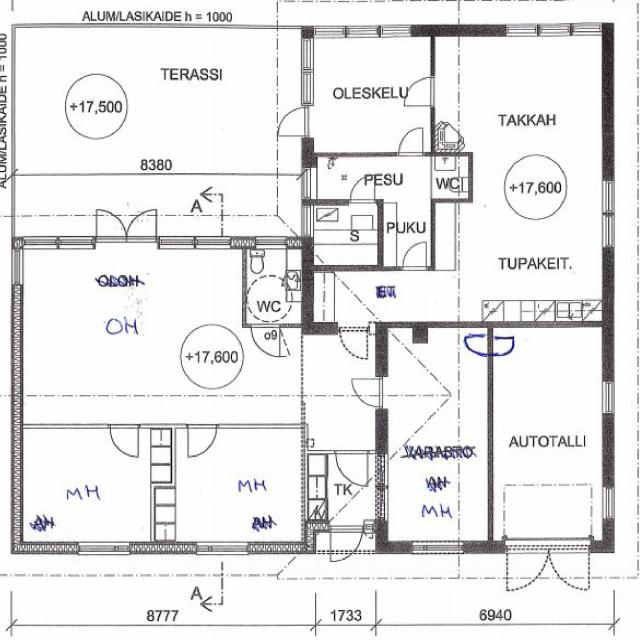door: (330, 526, 363, 565), (336, 450, 368, 486), (96, 206, 126, 242), (126, 206, 156, 242), (187, 424, 216, 457), (350, 378, 383, 407), (251, 324, 280, 356), (110, 424, 138, 457), (277, 108, 308, 136), (404, 78, 434, 106), (350, 174, 375, 202), (399, 128, 423, 156), (403, 242, 426, 270), (488, 336, 514, 356), (467, 336, 493, 356), (413, 174, 433, 192)
